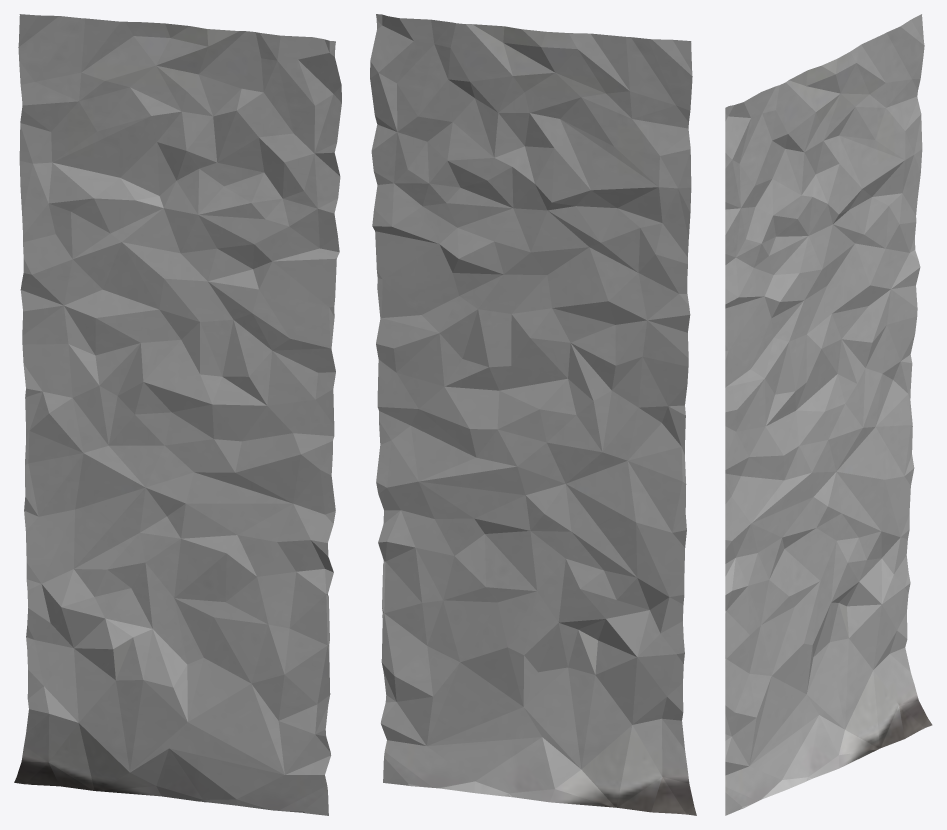
3 renders of one model, left to right at view 1: azimuth 30°, elevation 25°; view 2: azimuth 210°, elevation 25°; view 3: azimuth 270°, elevation 25°, orthographic. The views are drawn at different scales.
Size of the model in its own units: 0.2439 by 0.8373 by 0.2214.
1 material, 1 textured.
